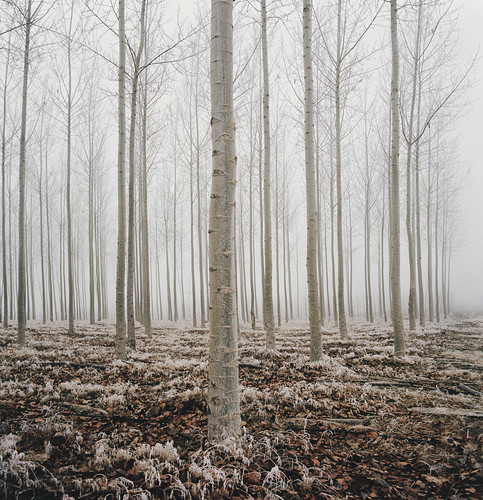vegetation: (2, 1, 483, 332)
